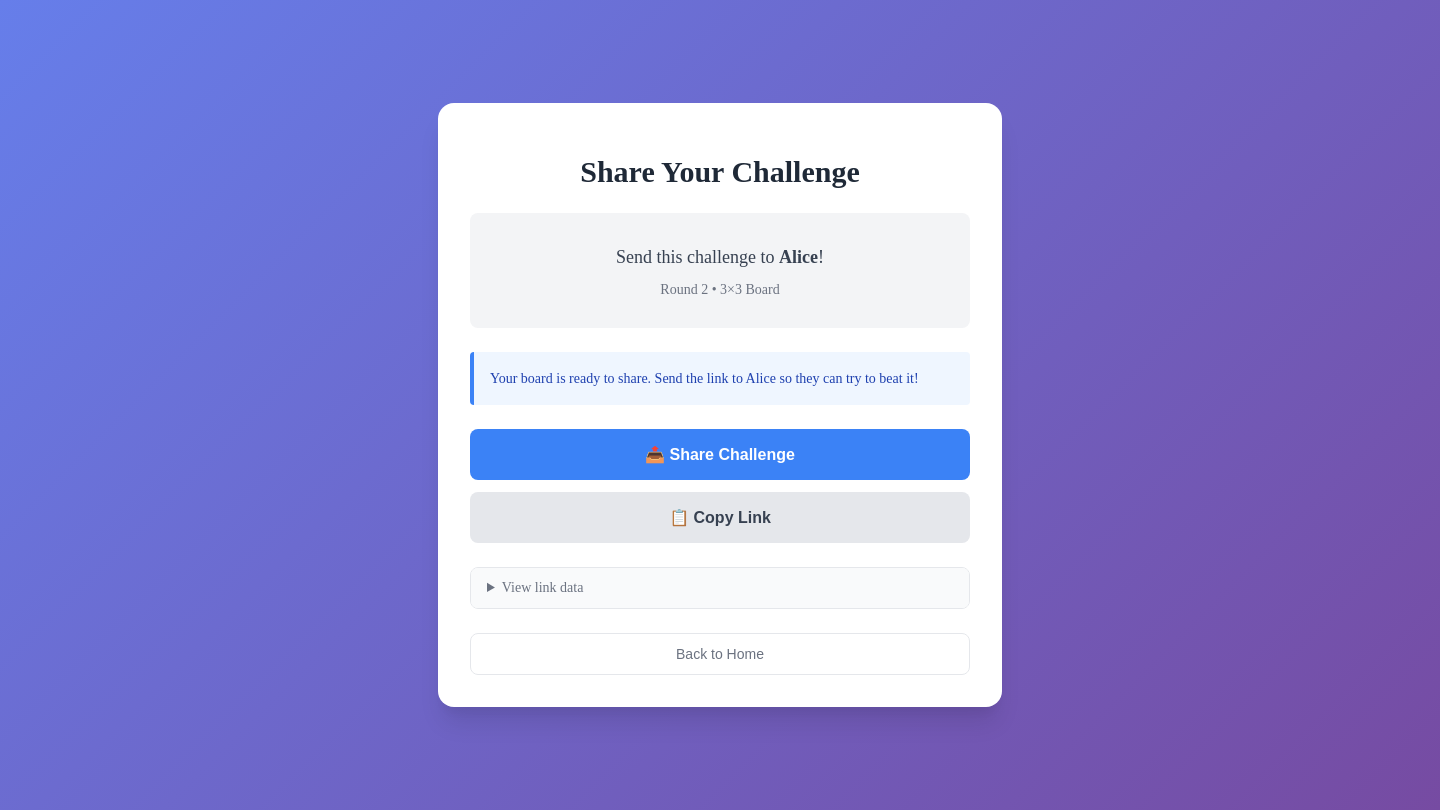
Test: ShareChallenge › Custom text props › should render custom confirmMessage in the confirmation modal
The width and height of the screenshot is (1440, 810).
# Trigger the confirm modal by clicking cancel without sharing
Click the button "Back to Home".
click(720, 654)  # box [470,633,970,675]
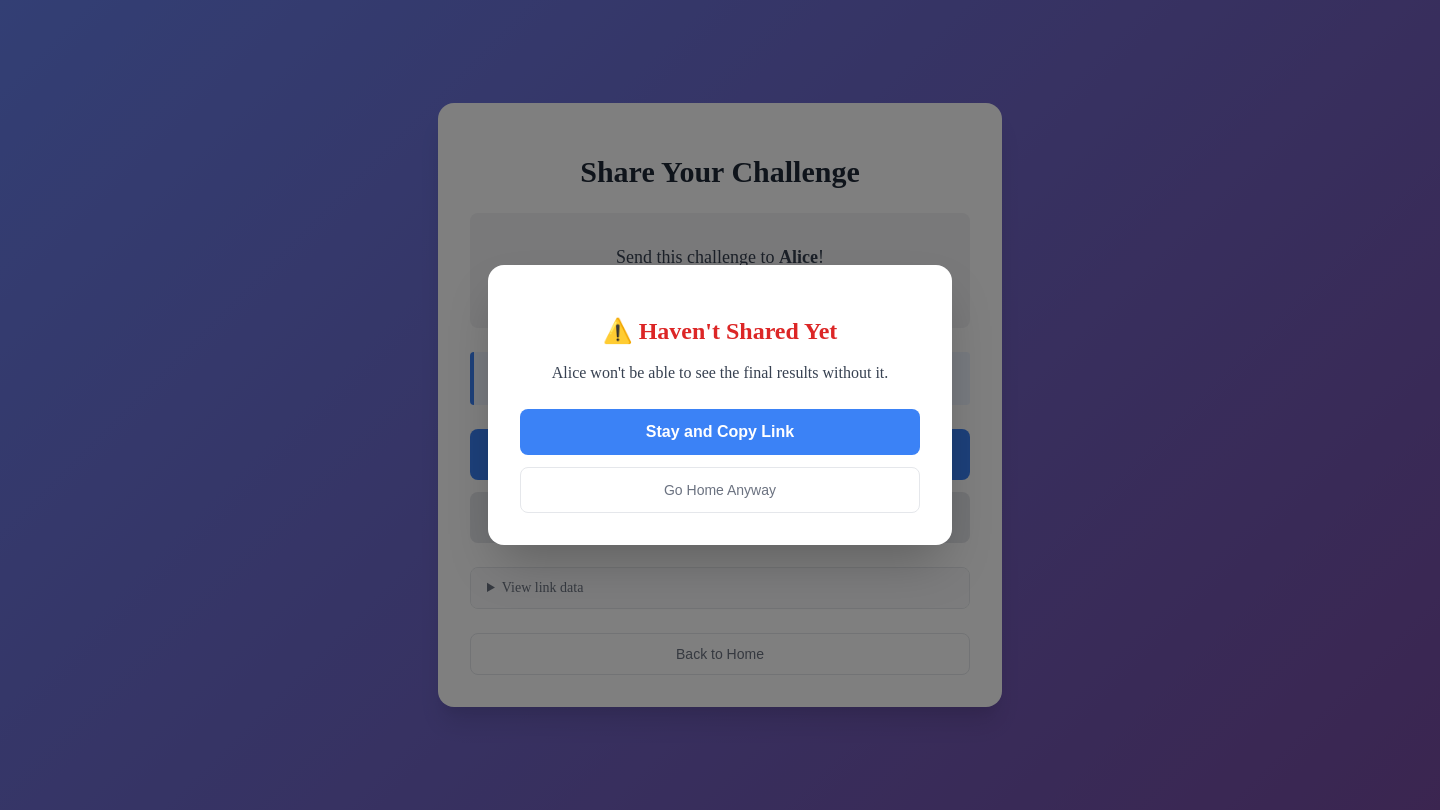
Now the text "Alice won't be able to see the final results without it." is shown, box [552,364,888,381]
